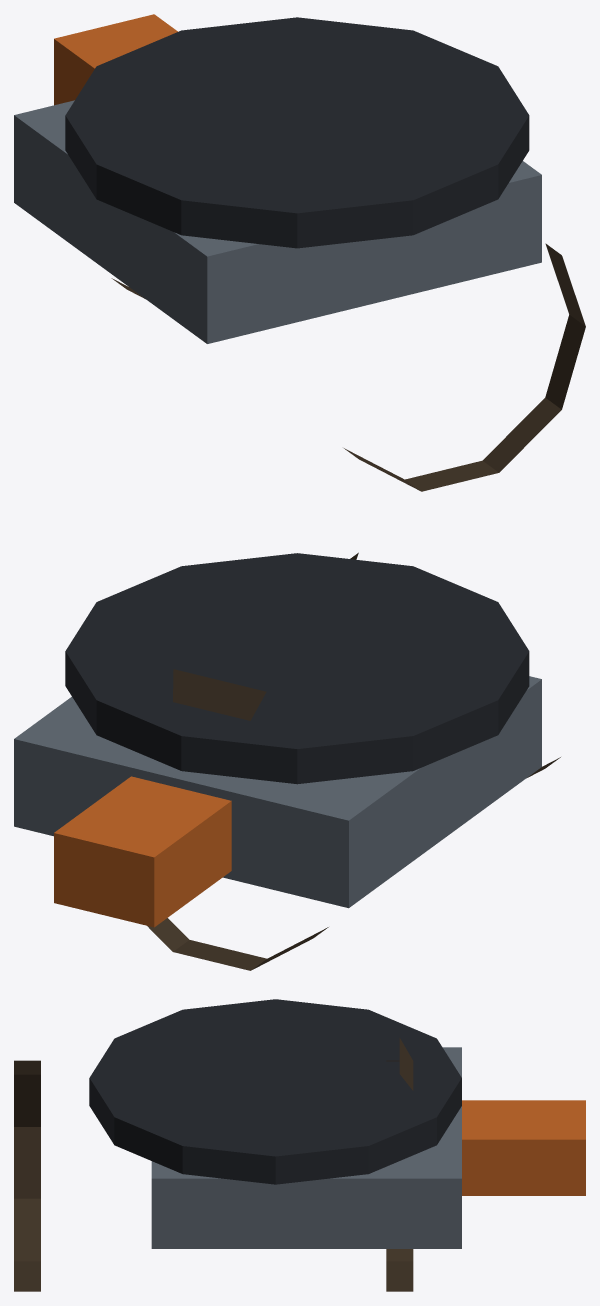
File: heavy-shield-generator.lod.glb
The picture shows the model from 3 angles, top to bottom: view 1: azimuth 30°, elevation 25°; view 2: azimuth 150°, elevation 25°; view 3: azimuth 270°, elevation 25°; orthographic projection. The views are drawn at different scales.
Visible parts, largest first — view 1: m; view 2: m; view 3: m.
Part boxes in pixels (x1,y1,x2,y2): m: [14, 14, 585, 491]; m: [14, 552, 560, 970]; m: [14, 999, 585, 1291].
Size of the model in its own units: 0.1237 by 0.0809 by 0.19.
